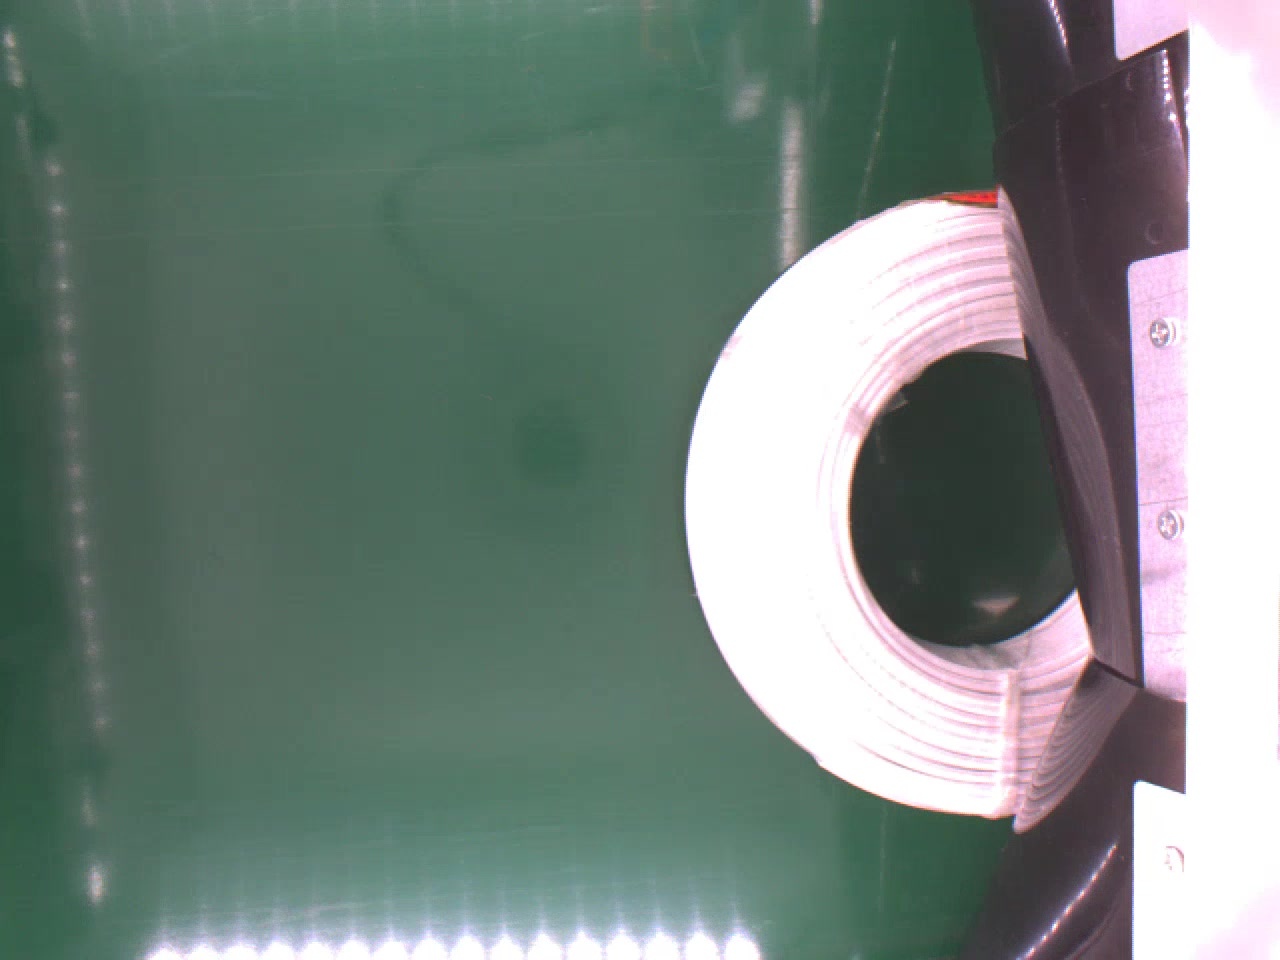white: (683, 185, 1092, 826)
